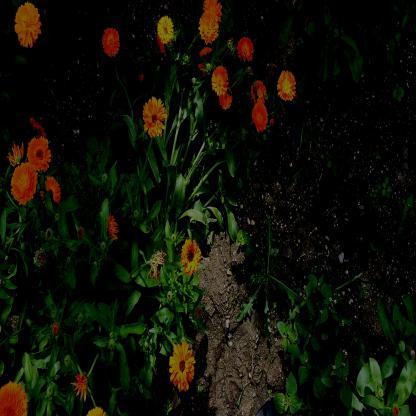marigold: (169, 341, 194, 391), (14, 1, 43, 44), (0, 380, 30, 415), (11, 162, 37, 202), (142, 97, 167, 138), (28, 136, 50, 170), (182, 240, 201, 272), (237, 35, 255, 65), (156, 17, 173, 47), (211, 64, 228, 94), (200, 14, 218, 42), (102, 29, 120, 56), (279, 72, 295, 102), (44, 176, 62, 202), (252, 102, 268, 130), (204, 0, 222, 20), (220, 87, 232, 109)
